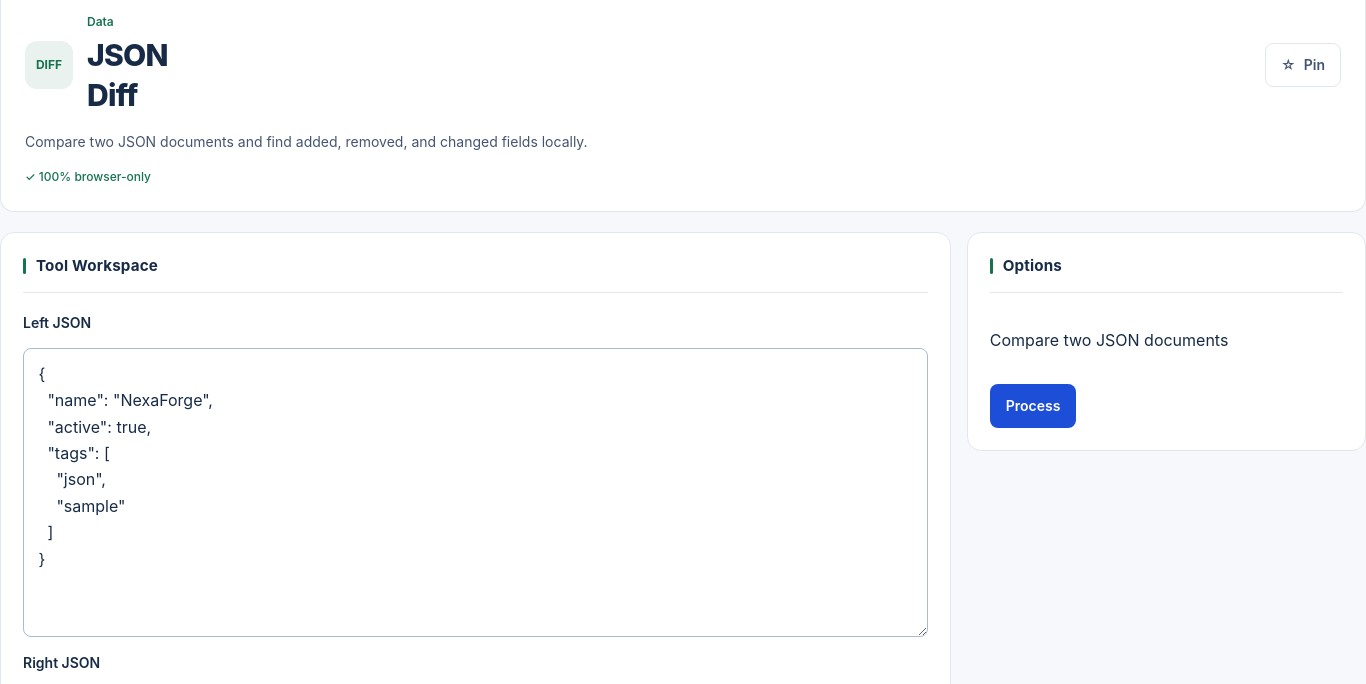
Scenario: DeveloperToolsPage JSON samples › starts JSON Diff with two processable samples that produce a difference
What coordinates should you click on to do the following:
click the button "Process"
I would click on:
 (1033, 406)
Its box is x1=990 y1=384 x2=1076 y2=428.
(page scrolled)
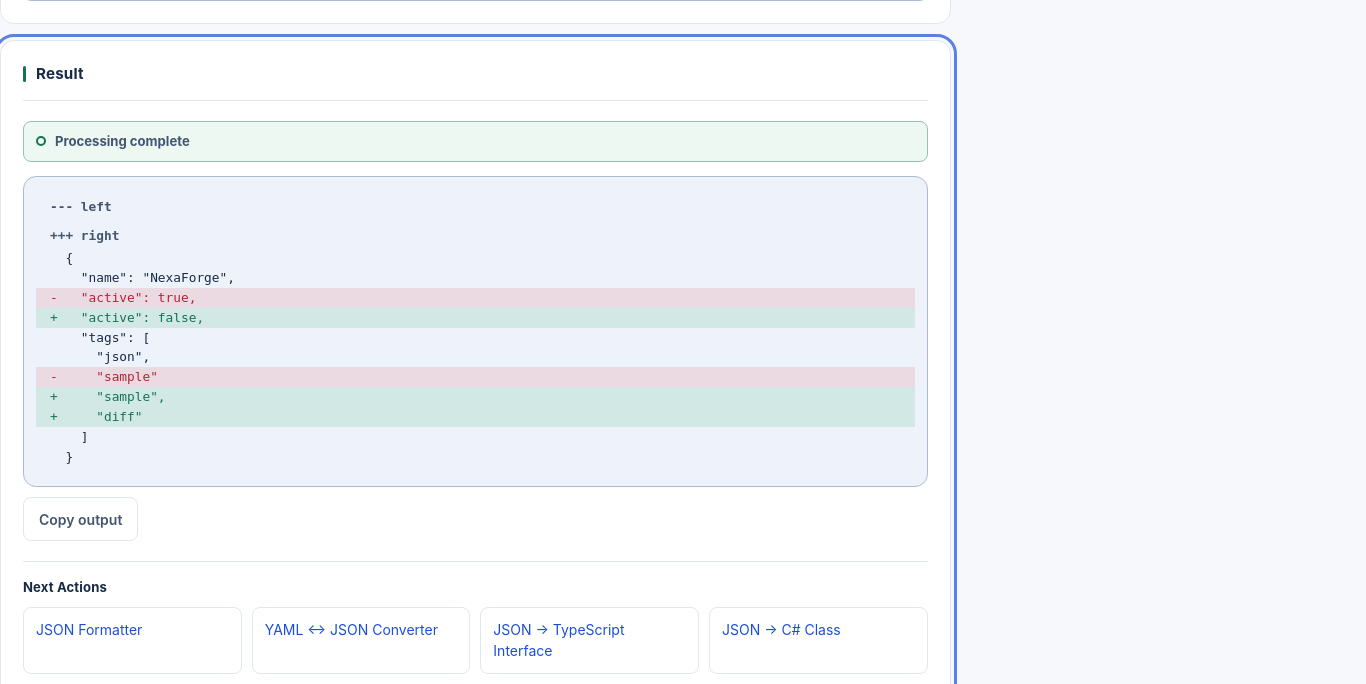
expect the element with class "developer-output" shows "--- left": met, box x1=50 y1=199 x2=112 y2=214
